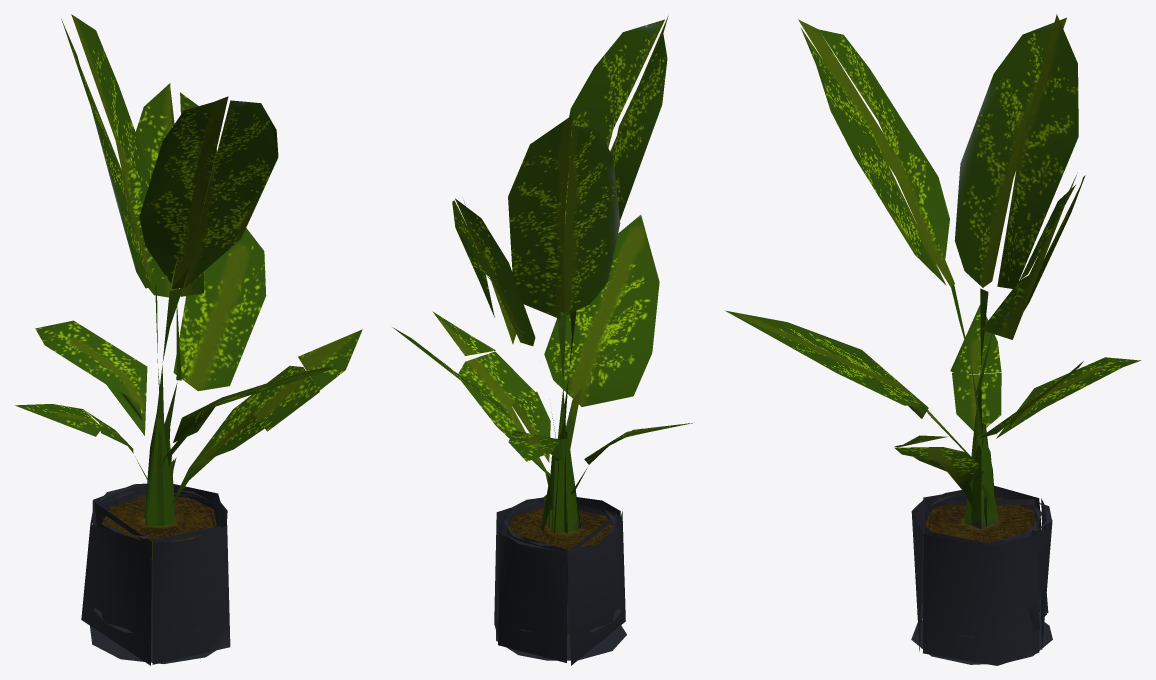
3 renders of one model, left to right at view 1: azimuth 30°, elevation 25°; view 2: azimuth 150°, elevation 25°; view 3: azimuth 270°, elevation 25°, orthographic. The views are drawn at different scales.
Visible parts, largest first — view 1: PotPlant; view 2: PotPlant; view 3: PotPlant.
Boxes of the visible parts, left/top/right/bottom form: PotPlant: left=15, top=14, right=362, bottom=665; PotPlant: left=392, top=16, right=694, bottom=665; PotPlant: left=725, top=14, right=1140, bottom=665.
Bounding box in the file's own units: 11.06 × 20.34 × 12.75.
1 material, 1 textured.
